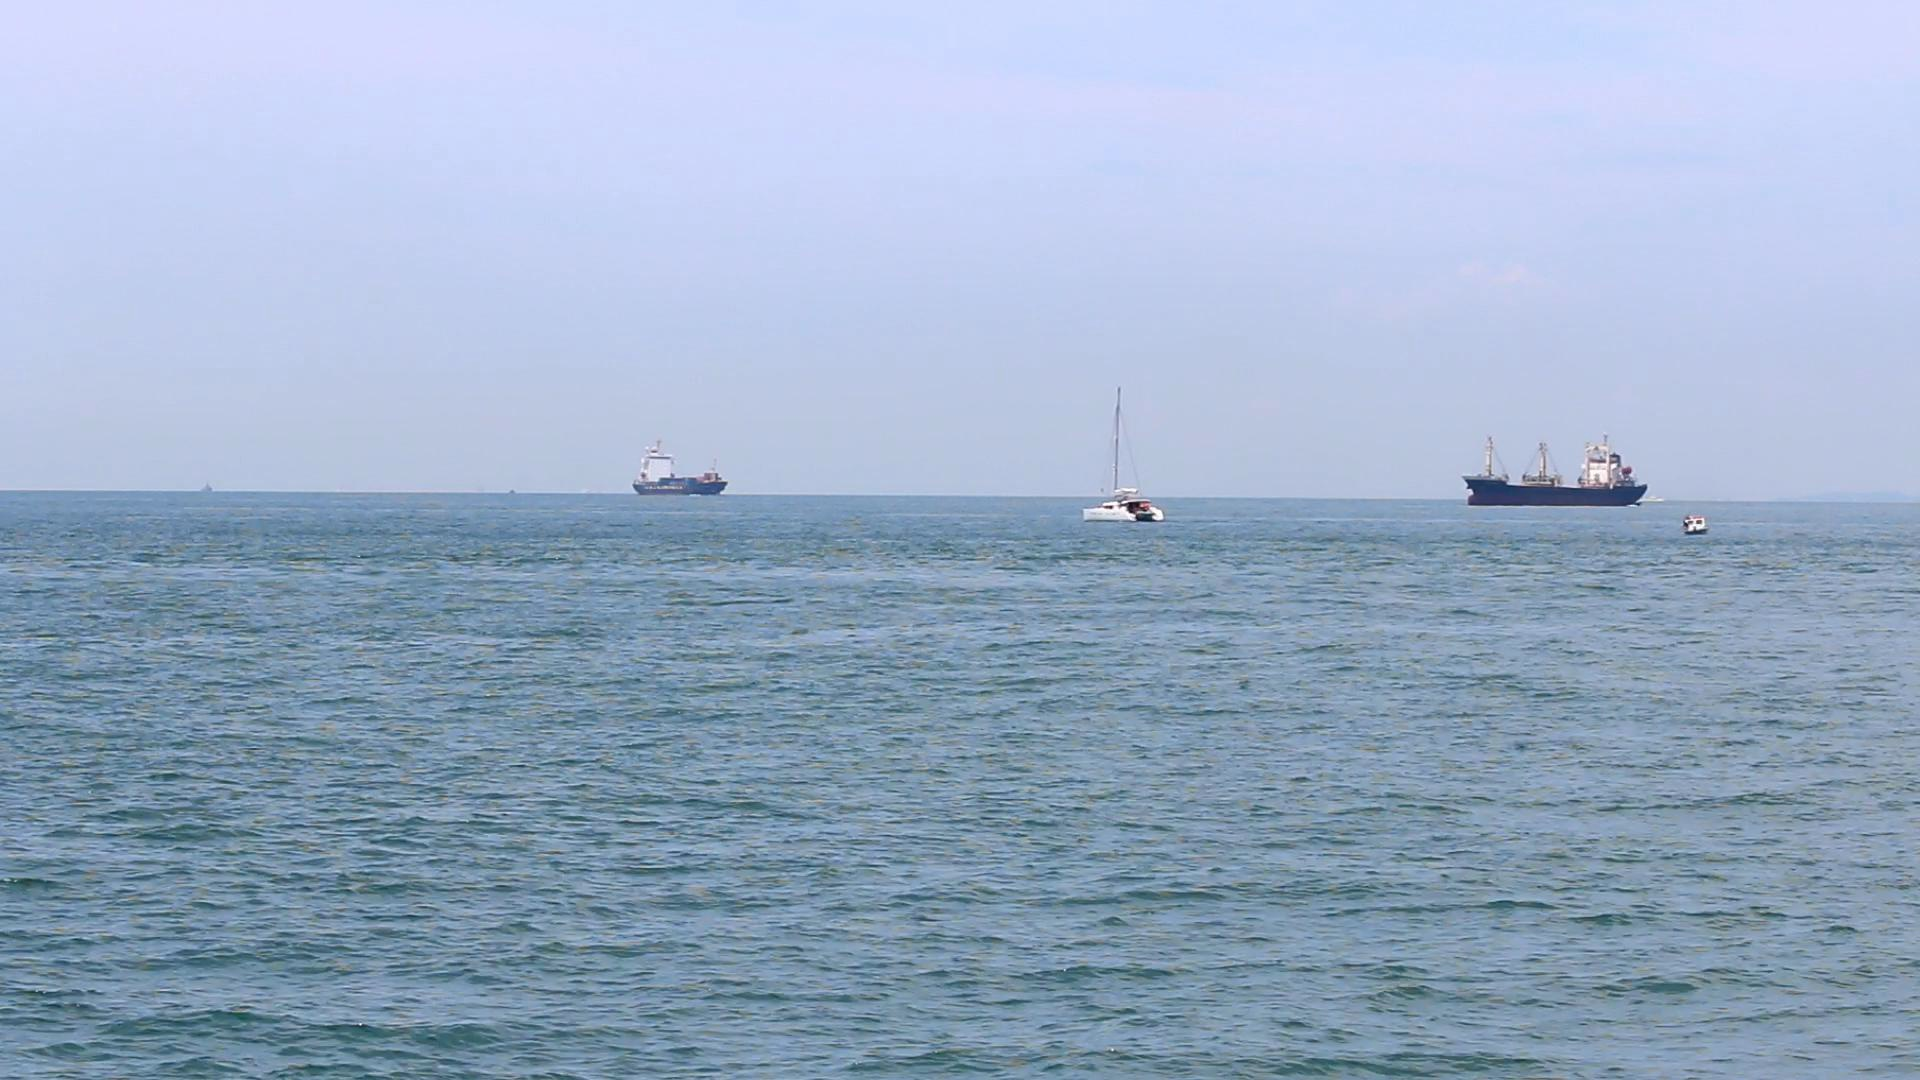Container Ship: (1465, 433, 1651, 508), (629, 439, 729, 498)
